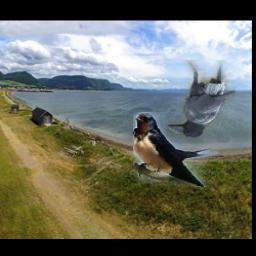Crow: (168, 61, 236, 138)
Swallow: (132, 112, 242, 187)
